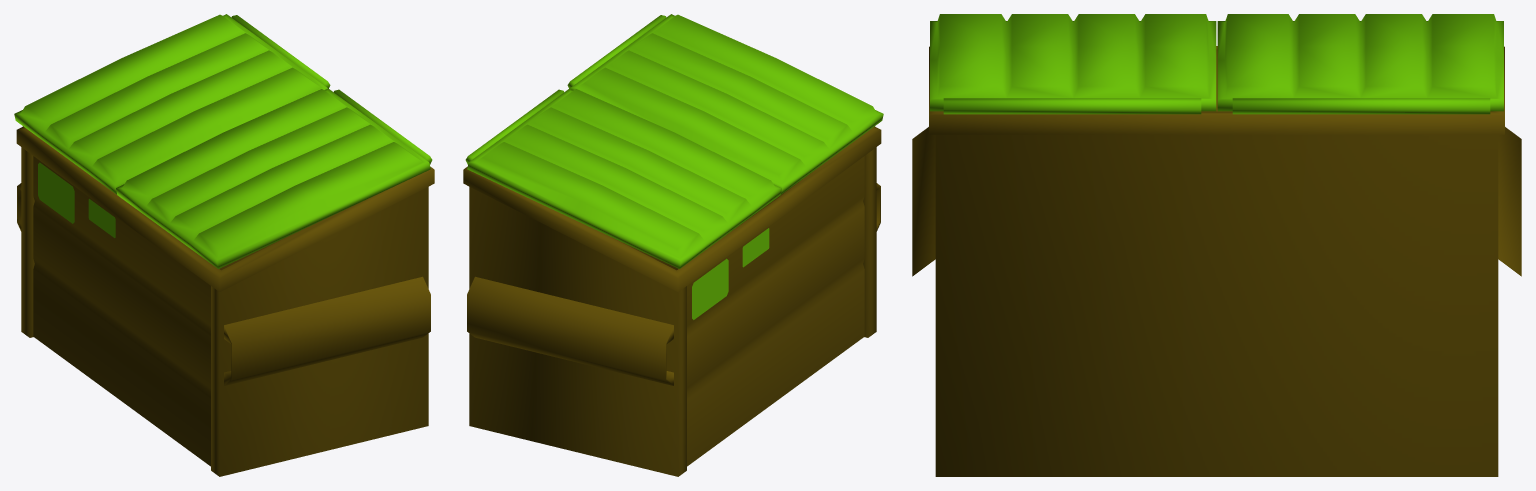
The model's file is DumpsterRedNight.glb.
3 views of the same model, side by side, from view 1: azimuth 30°, elevation 25°; view 2: azimuth 150°, elevation 25°; view 3: azimuth 270°, elevation 25° (orthographic). The views are drawn at different scales.
Parts seen in each view (by area): view 1: DumpsterRedNight; view 2: DumpsterRedNight; view 3: DumpsterRedNight.
Part boxes in pixels (x1,y1,x2,y2): DumpsterRedNight: (14,14,434,476); DumpsterRedNight: (463,14,883,476); DumpsterRedNight: (912,14,1521,476).
Size of the model in its own units: 1.93 by 2.26 by 3.25.
1 material, 1 textured.
